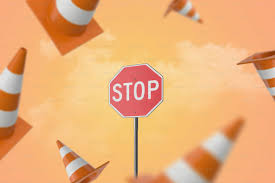stop sign: (109, 63, 163, 117)
